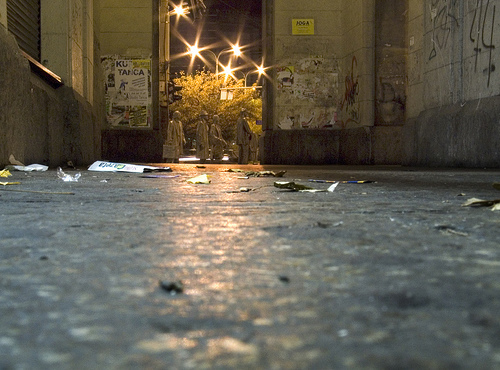litter: (88, 160, 170, 174), (273, 179, 339, 193), (461, 196, 500, 214), (56, 166, 81, 182), (6, 162, 49, 171), (243, 169, 286, 177), (330, 176, 375, 183), (187, 175, 213, 185), (221, 166, 246, 172), (0, 168, 13, 177), (192, 161, 208, 168)
